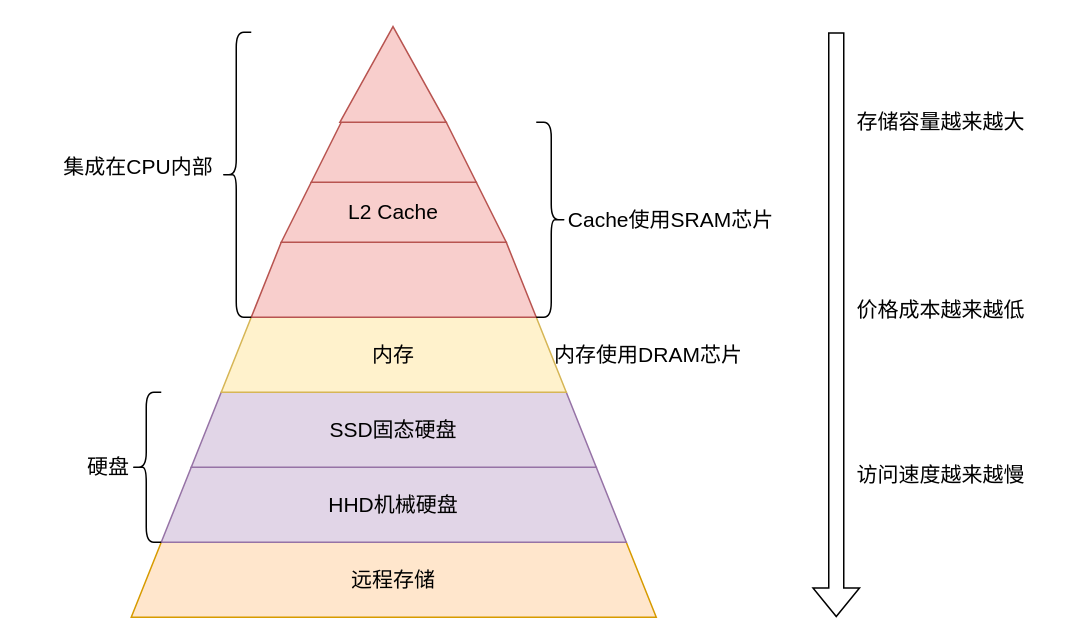
This 1071x644 diagram has some shape labels left out. Each missing label, with the box of its shape:
L1 Cache: (310, 121, 476, 182)
L3 Cache: (250, 241, 536, 317)
寄存器: (338, 25, 446, 122)
